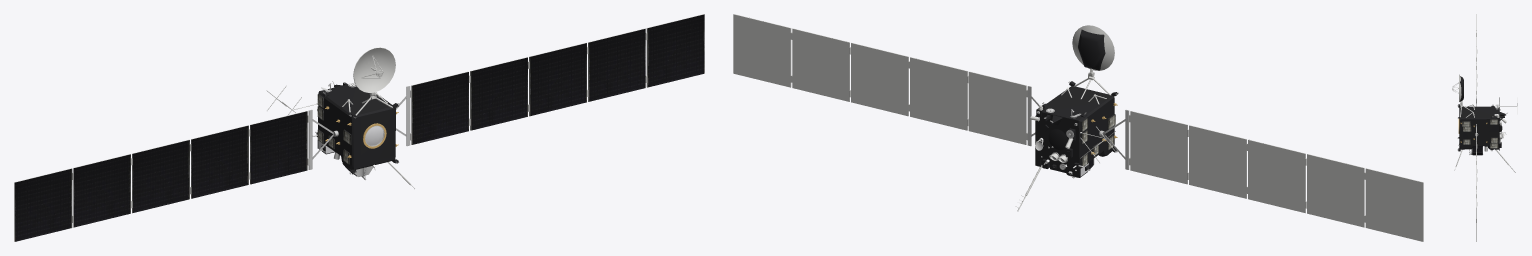
The model's file is rosetta.glb.
The picture shows the model from 3 angles, left to right: view 1: azimuth 30°, elevation 25°; view 2: azimuth 150°, elevation 25°; view 3: azimuth 270°, elevation 25°; orthographic projection. The views are drawn at different scales.
Parts seen in each view (by area): view 1: panels_01, dish, black_krinkle, foil_silver; view 2: dish, black_krinkle, panels_01; view 3: black_krinkle, dish, panels_01, foil_gold.
Boxes of the visible parts, x1=… form: panels_01: x1=14, y1=14, x2=704, y2=241; dish: x1=14, y1=14, x2=703, y2=241; black_krinkle: x1=316, y1=82, x2=398, y2=174; foil_silver: x1=318, y1=126, x2=383, y2=153; dish: x1=733, y1=14, x2=1423, y2=241; black_krinkle: x1=1035, y1=29, x2=1117, y2=177; panels_01: x1=1081, y1=114, x2=1115, y2=169; black_krinkle: x1=1458, y1=76, x2=1505, y2=150; dish: x1=1452, y1=14, x2=1517, y2=241; panels_01: x1=1462, y1=119, x2=1498, y2=155; foil_gold: x1=1458, y1=119, x2=1487, y2=142.
Size of the model in its own units: 31.96 by 6.92 by 4.55.
Materials: 8 (3 with a texture image).
